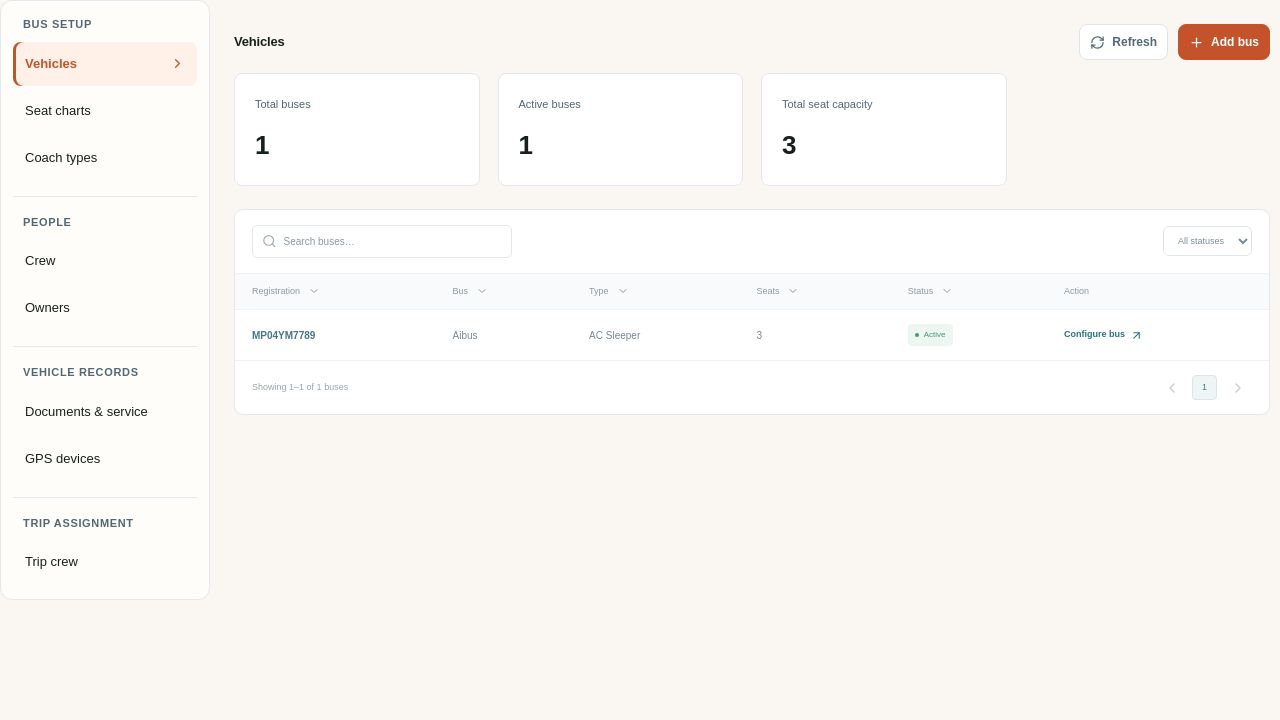
Test: links a bus to an owner and coach through its vehicle action
Click the button "Configure bus" at x=1103, y=335, box [1064,328,1143,342]
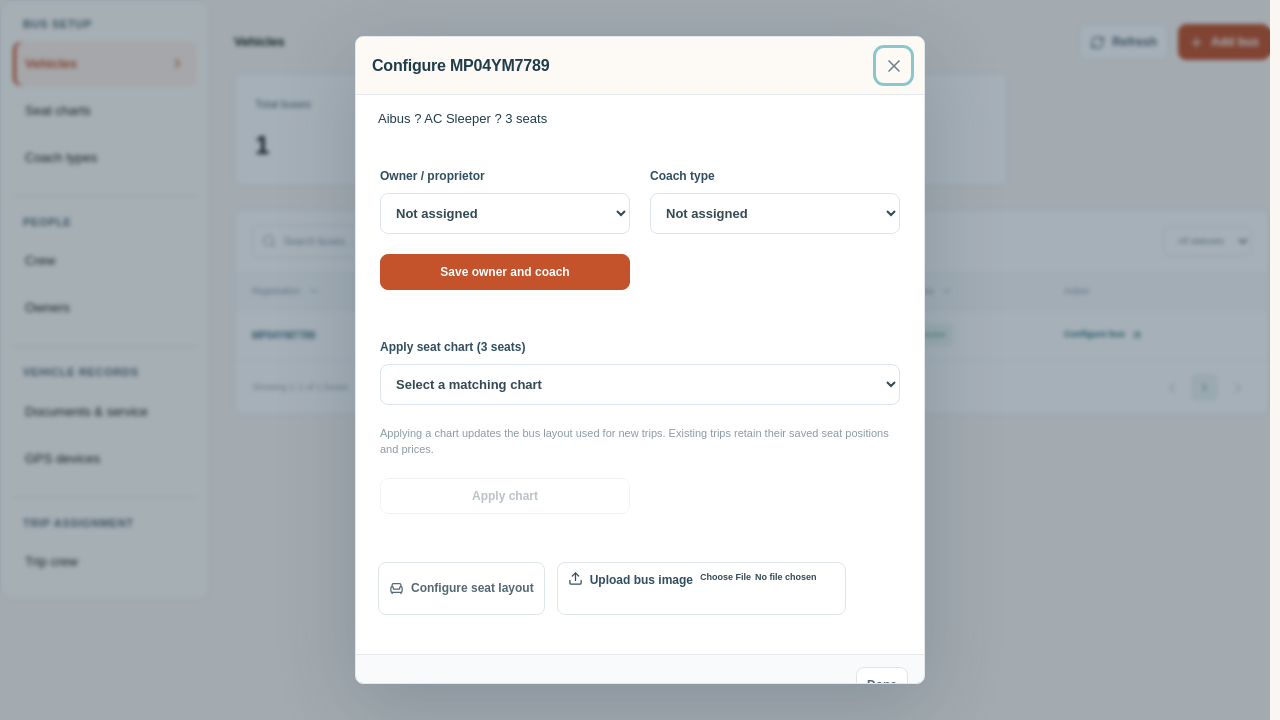
Now the button "Configure seat layout" is shown, box [378,562,545,614]
Select "Fleet Owner" in the dropdown labelled "Owner / proprietor" at x=505, y=213, box [380,192,630,234]
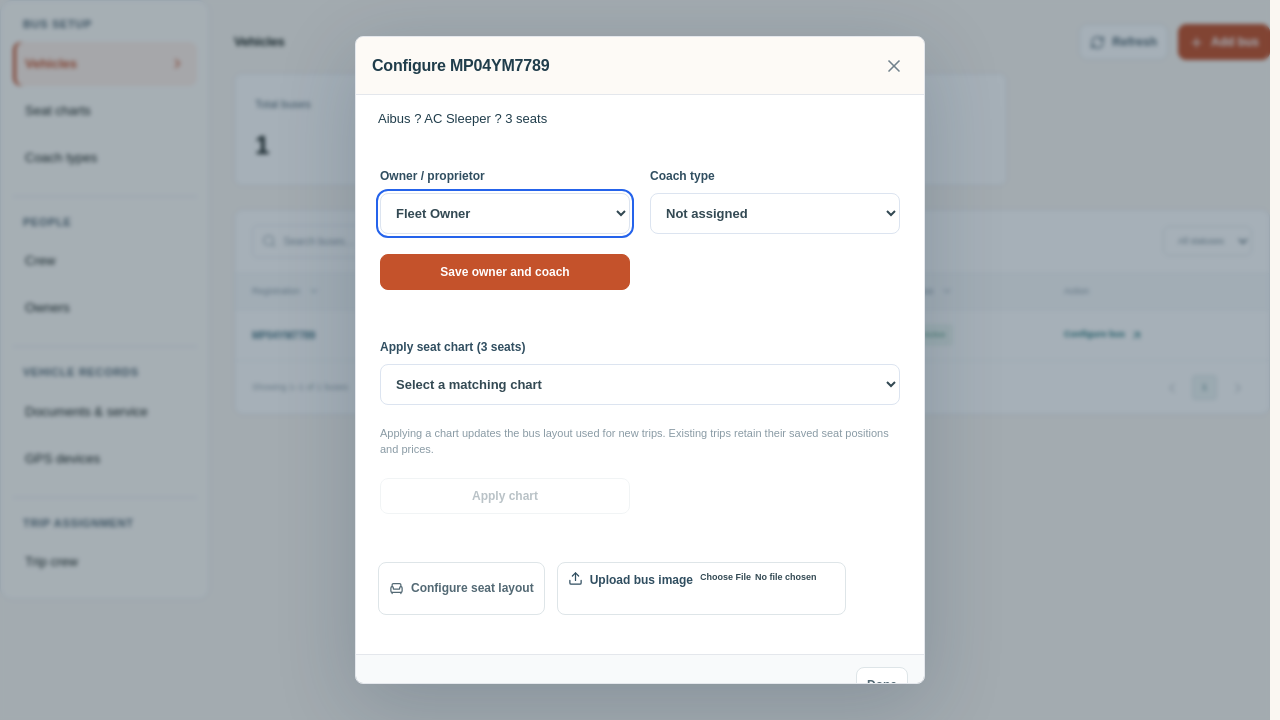
Select "Premium sleeper · AC Sleeper" in the dropdown labelled "Coach type" at x=775, y=213, box [650,192,900,234]
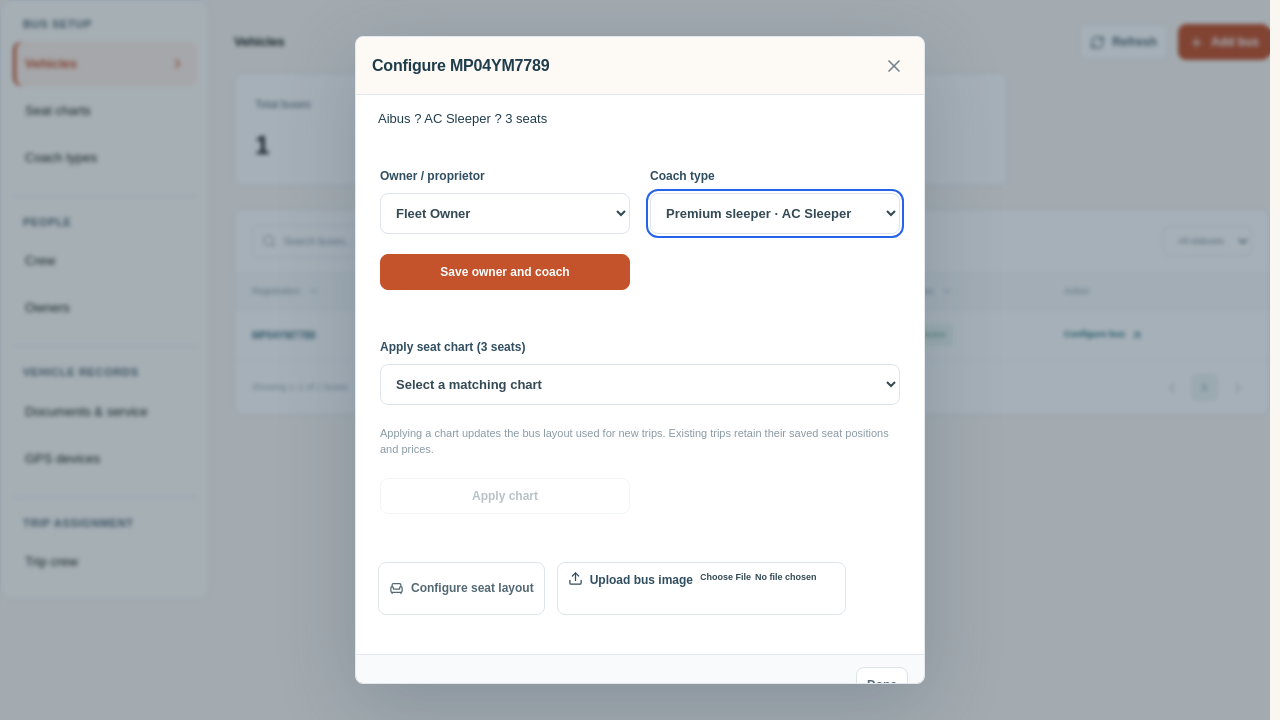
Click the button "Save owner and coach" at x=505, y=272, box [380,254,630,290]
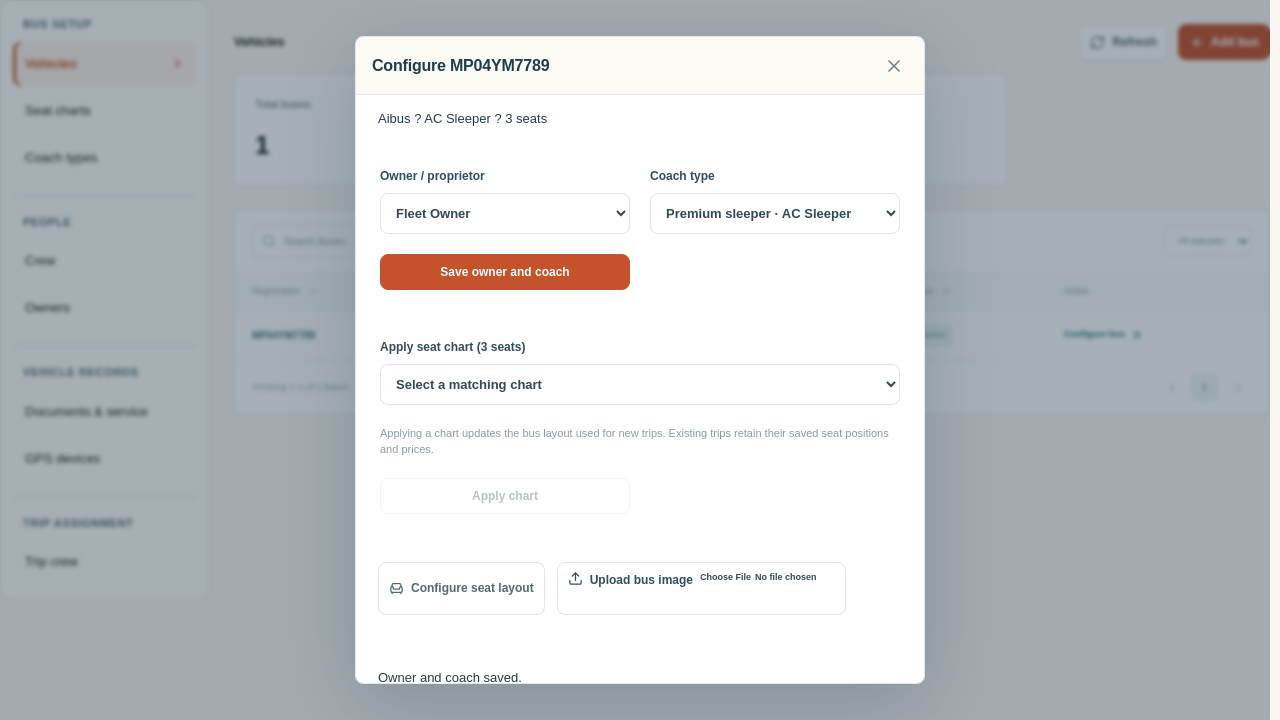
Now the text "Owner and coach saved." is shown, box [378,670,522,684]
